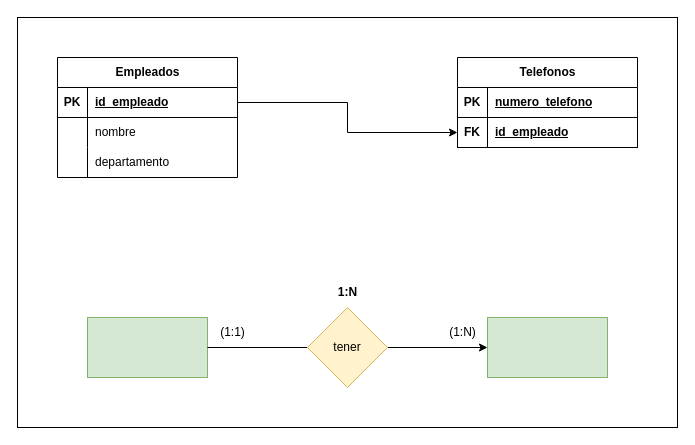
Some shapes in this 695 by 445 pixel diagram are drawn without their labels. The shapes that lost their labels are listed below. From the top down, each one's centre as x and y in pixels, then its label:
At pixel 147 347: "Empleado".
At pixel 547 347: "Telefono".
